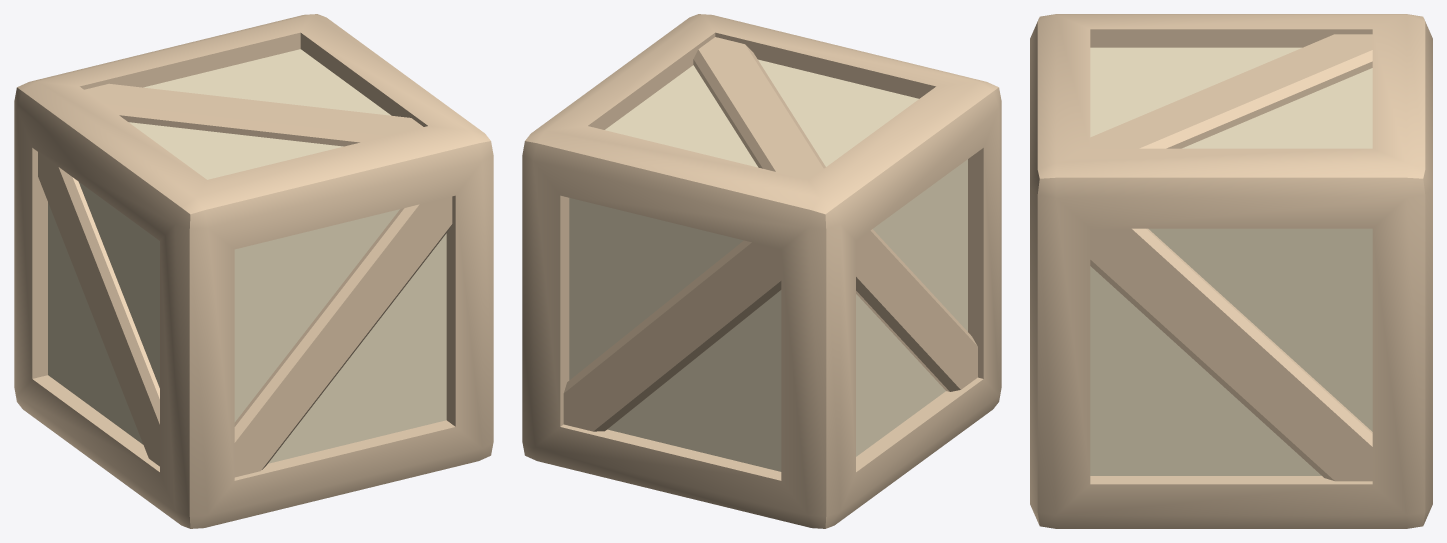
File: Tile-no2.gltf
The picture shows the model from 3 angles, left to right: view 1: azimuth 30°, elevation 25°; view 2: azimuth 150°, elevation 25°; view 3: azimuth 270°, elevation 25°; orthographic projection. The views are drawn at different scales.
Parts seen in each view (by area): view 1: Cube_Crate; view 2: Cube_Crate; view 3: Cube_Crate.
Boxes of the visible parts, x1,y1,x2,y2 form: Cube_Crate: (14,14,493,528); Cube_Crate: (522,14,1001,528); Cube_Crate: (1030,14,1432,528).
Bounding box in the file's own units: 1 × 1 × 1.
1 material, 1 textured.
